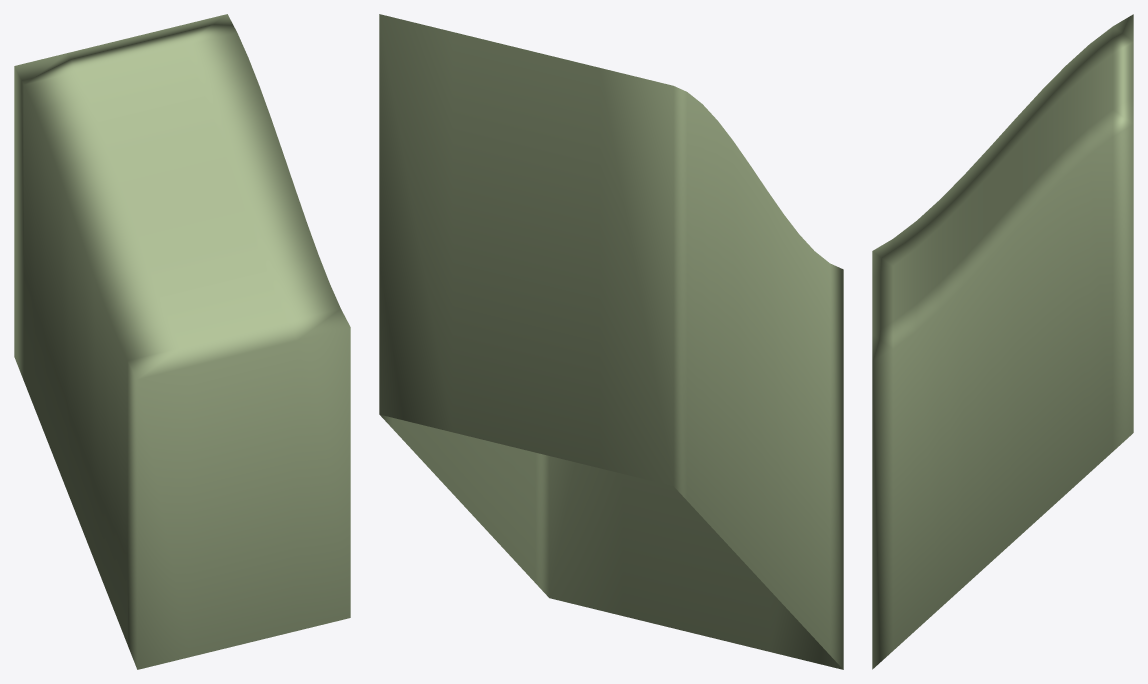
The model's file is ground-ramp-10.glb.
3 views of the same model, side by side, from view 1: azimuth 30°, elevation 25°; view 2: azimuth 150°, elevation 25°; view 3: azimuth 270°, elevation 25° (orthographic). The views are drawn at different scales.
Parts seen in each view (by area): view 1: ground-ramp-10; view 2: ground-ramp-10; view 3: ground-ramp-10.
Boxes of the visible parts, box(x1,y1,x2,y2) form: ground-ramp-10: box(14, 14, 350, 669); ground-ramp-10: box(379, 14, 843, 669); ground-ramp-10: box(872, 14, 1133, 669).
Bounding box in the file's own units: 1 × 2.3 × 1.
